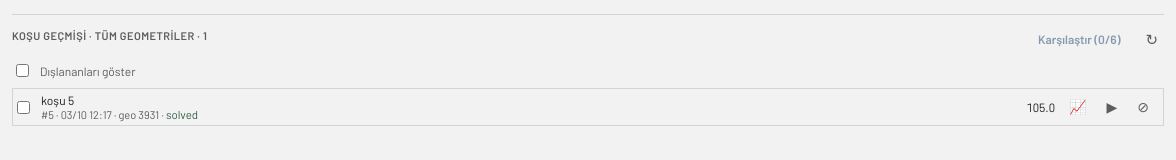
Test: CrashHistory › geometri yokken tüm geometriler; dışla PATCH gönderir
Expected: the text "Koşu geçmişi · tüm geometriler · 1" is shown, [12,28,207,44]
Expected: the text "#5 · 03/10 12:17 · geo 3931 · solved" is shown, [41,107,198,121]
Click the button named "koşu 5 dışla" at (1143,107), box [1131,99,1155,115]
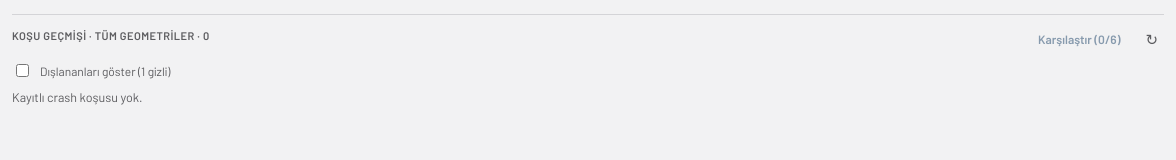
Now the text "koşu 5" is gone
